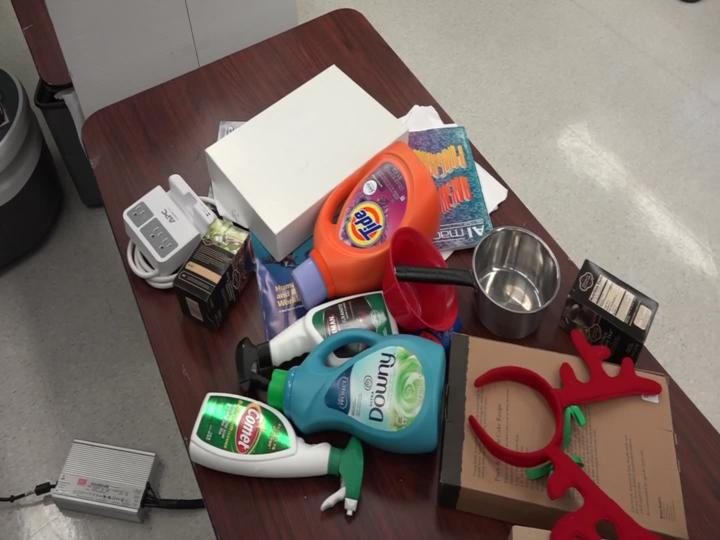tide: (280, 133, 453, 314)
